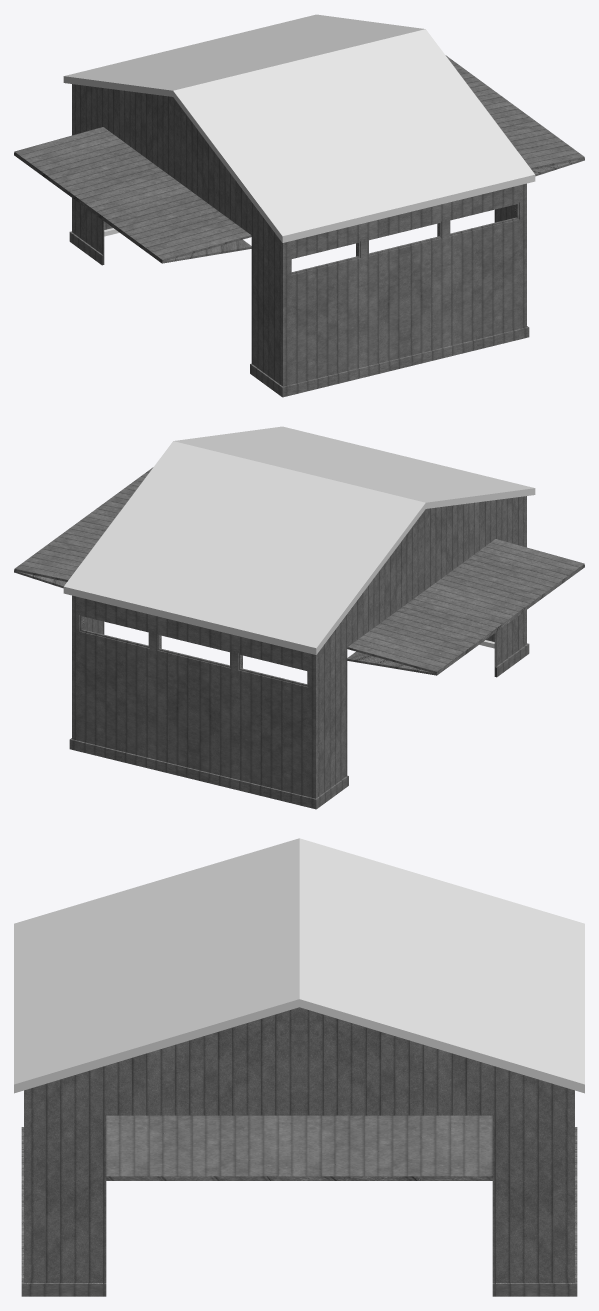
File: Warehouse.fbx
3 views of the same model, one above another, from view 1: azimuth 30°, elevation 25°; view 2: azimuth 150°, elevation 25°; view 3: azimuth 270°, elevation 25° (orthographic). The views are drawn at different scales.
Visible parts, largest first — view 1: Cube, Cube.001, Cube.002, Cube.004, Cube.003; view 2: Cube, Cube.001, Cube.002, Cube.004, Cube.003; view 3: Cube, Cube.001, Cube.002, Cube.004.
Part boxes in pixels (box(x1,y1,x2,y2)): Cube: box(63, 14, 535, 242); Cube.001: box(72, 84, 526, 386); Cube.002: box(14, 55, 584, 263); Cube.004: box(69, 231, 529, 397); Cube.003: box(290, 202, 518, 274); Cube: box(63, 426, 535, 654); Cube.001: box(72, 496, 526, 798); Cube.002: box(14, 467, 584, 675); Cube.004: box(69, 643, 529, 809); Cube.003: box(80, 614, 308, 686); Cube: box(14, 838, 584, 1093); Cube.001: box(24, 1007, 574, 1282); Cube.002: box(106, 1115, 492, 1180); Cube.004: box(21, 1127, 577, 1296).
Size of the model in its own units: 694 by 362 by 622.
